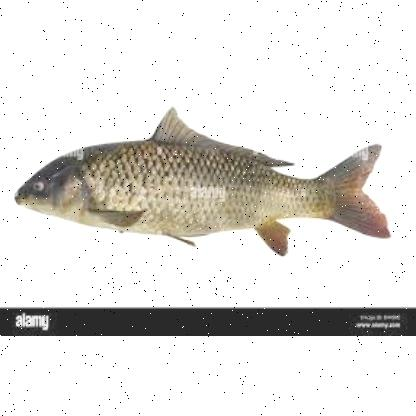ikan-mas: (13, 128, 386, 242)
